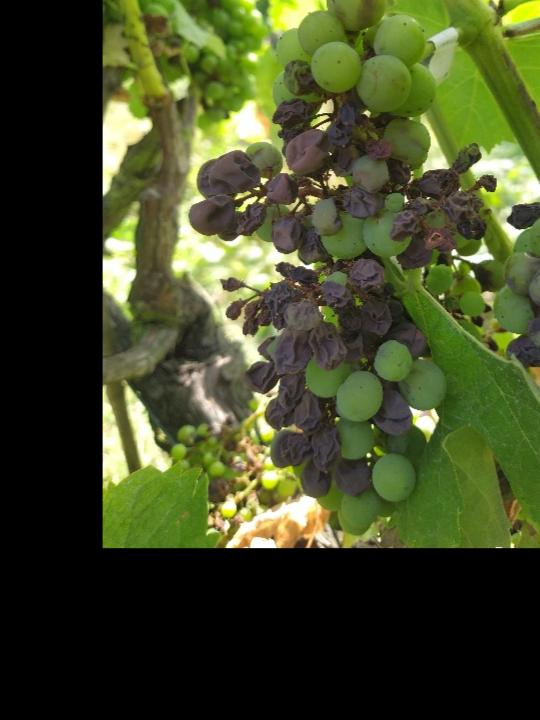grape: (186, 0, 501, 538), (117, 0, 264, 121)
